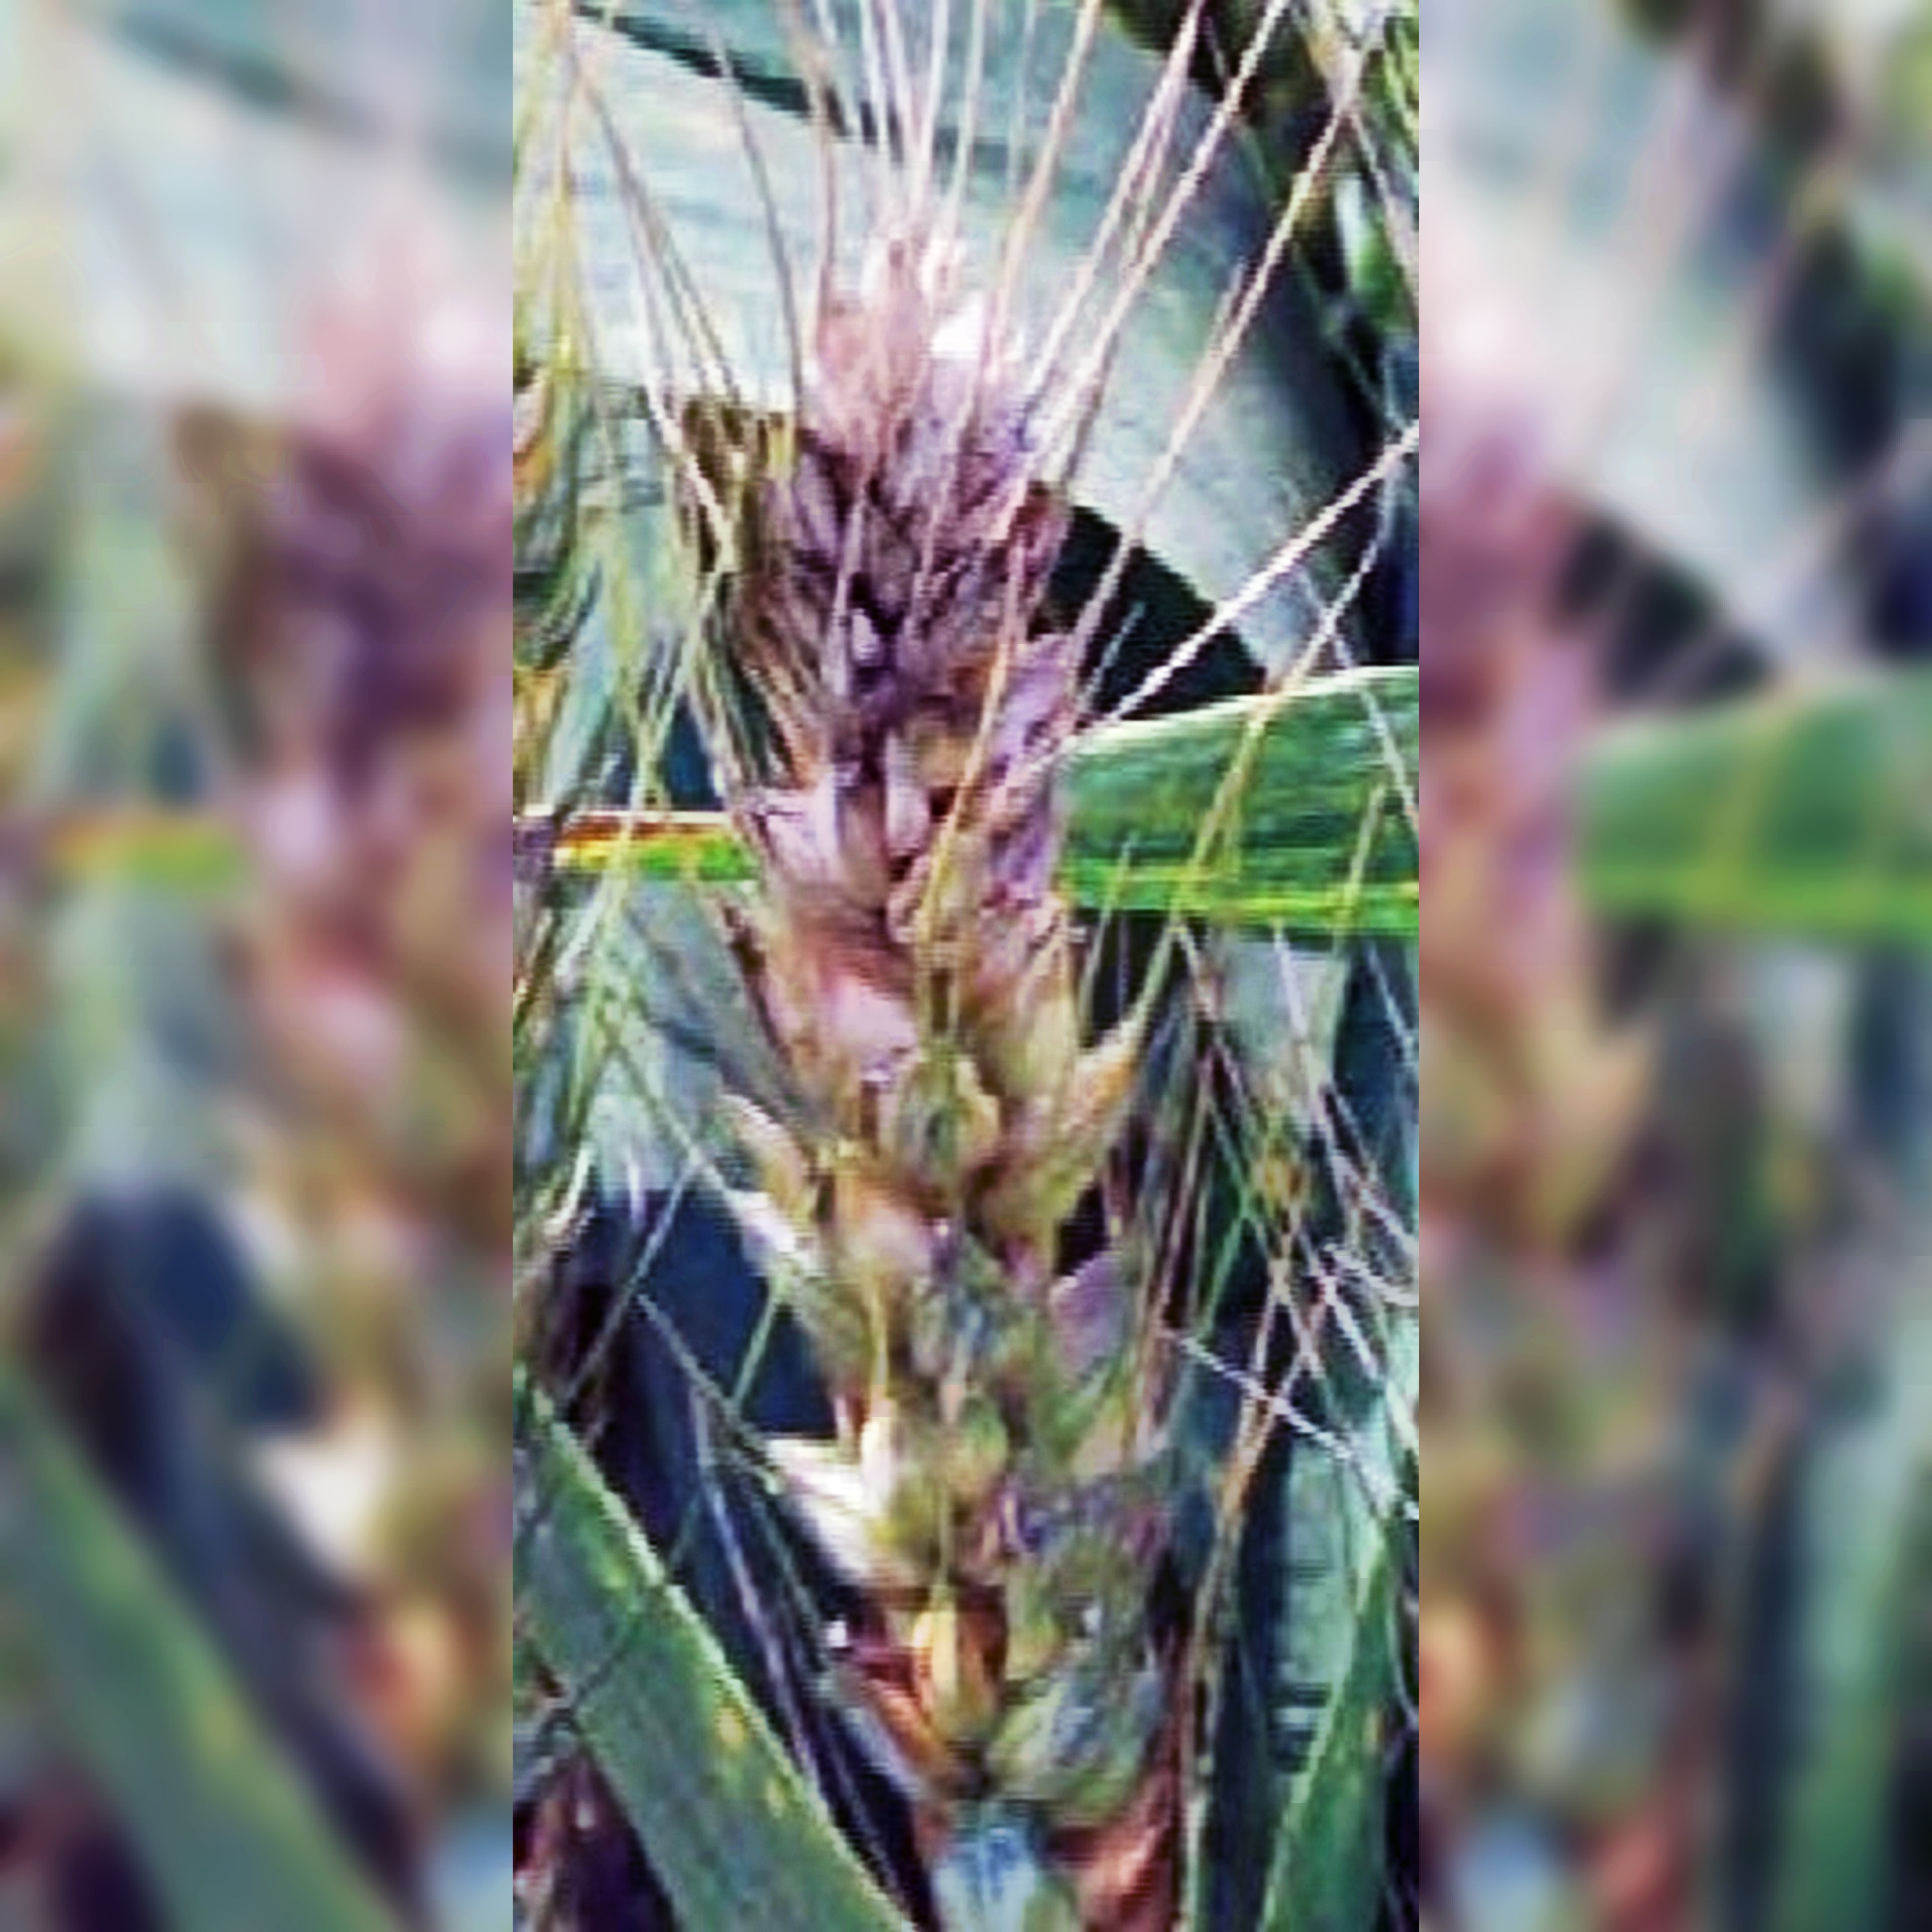Wheat scab: (635, 313, 1208, 1849)
